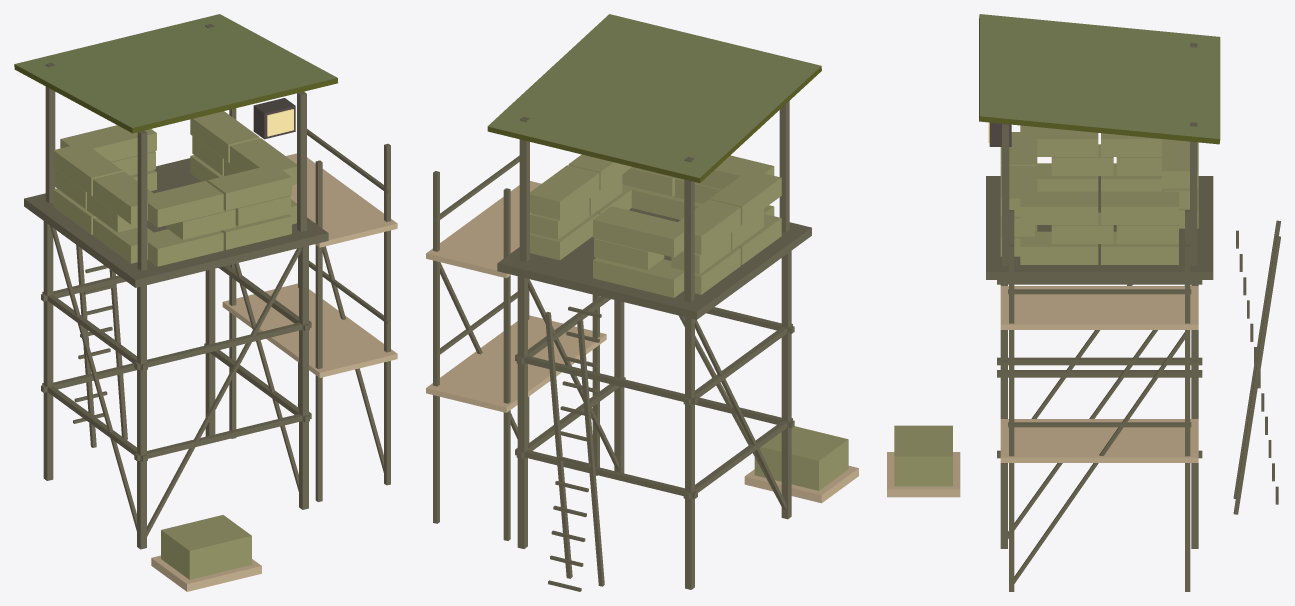
The model's file is SM_Torreta_v3_Reparacion_LOD0.fbx.
The picture shows the model from 3 angles, left to right: view 1: azimuth 30°, elevation 25°; view 2: azimuth 150°, elevation 25°; view 3: azimuth 270°, elevation 25°; orthographic projection. The views are drawn at different scales.
Parts seen in each view (by area): view 1: SM_bloques.torreta_v3_LOD0, Luces; view 2: SM_bloques.torreta_v3_LOD0; view 3: SM_bloques.torreta_v3_LOD0.
Boxes of the visible parts, box(x1,y1,x2,y2) form: SM_bloques.torreta_v3_LOD0: box(14, 14, 397, 591); Luces: box(267, 109, 293, 136); SM_bloques.torreta_v3_LOD0: box(426, 14, 858, 591); SM_bloques.torreta_v3_LOD0: box(887, 14, 1280, 591).
Size of the model in its own units: 4.43 by 6.65 by 5.37.
